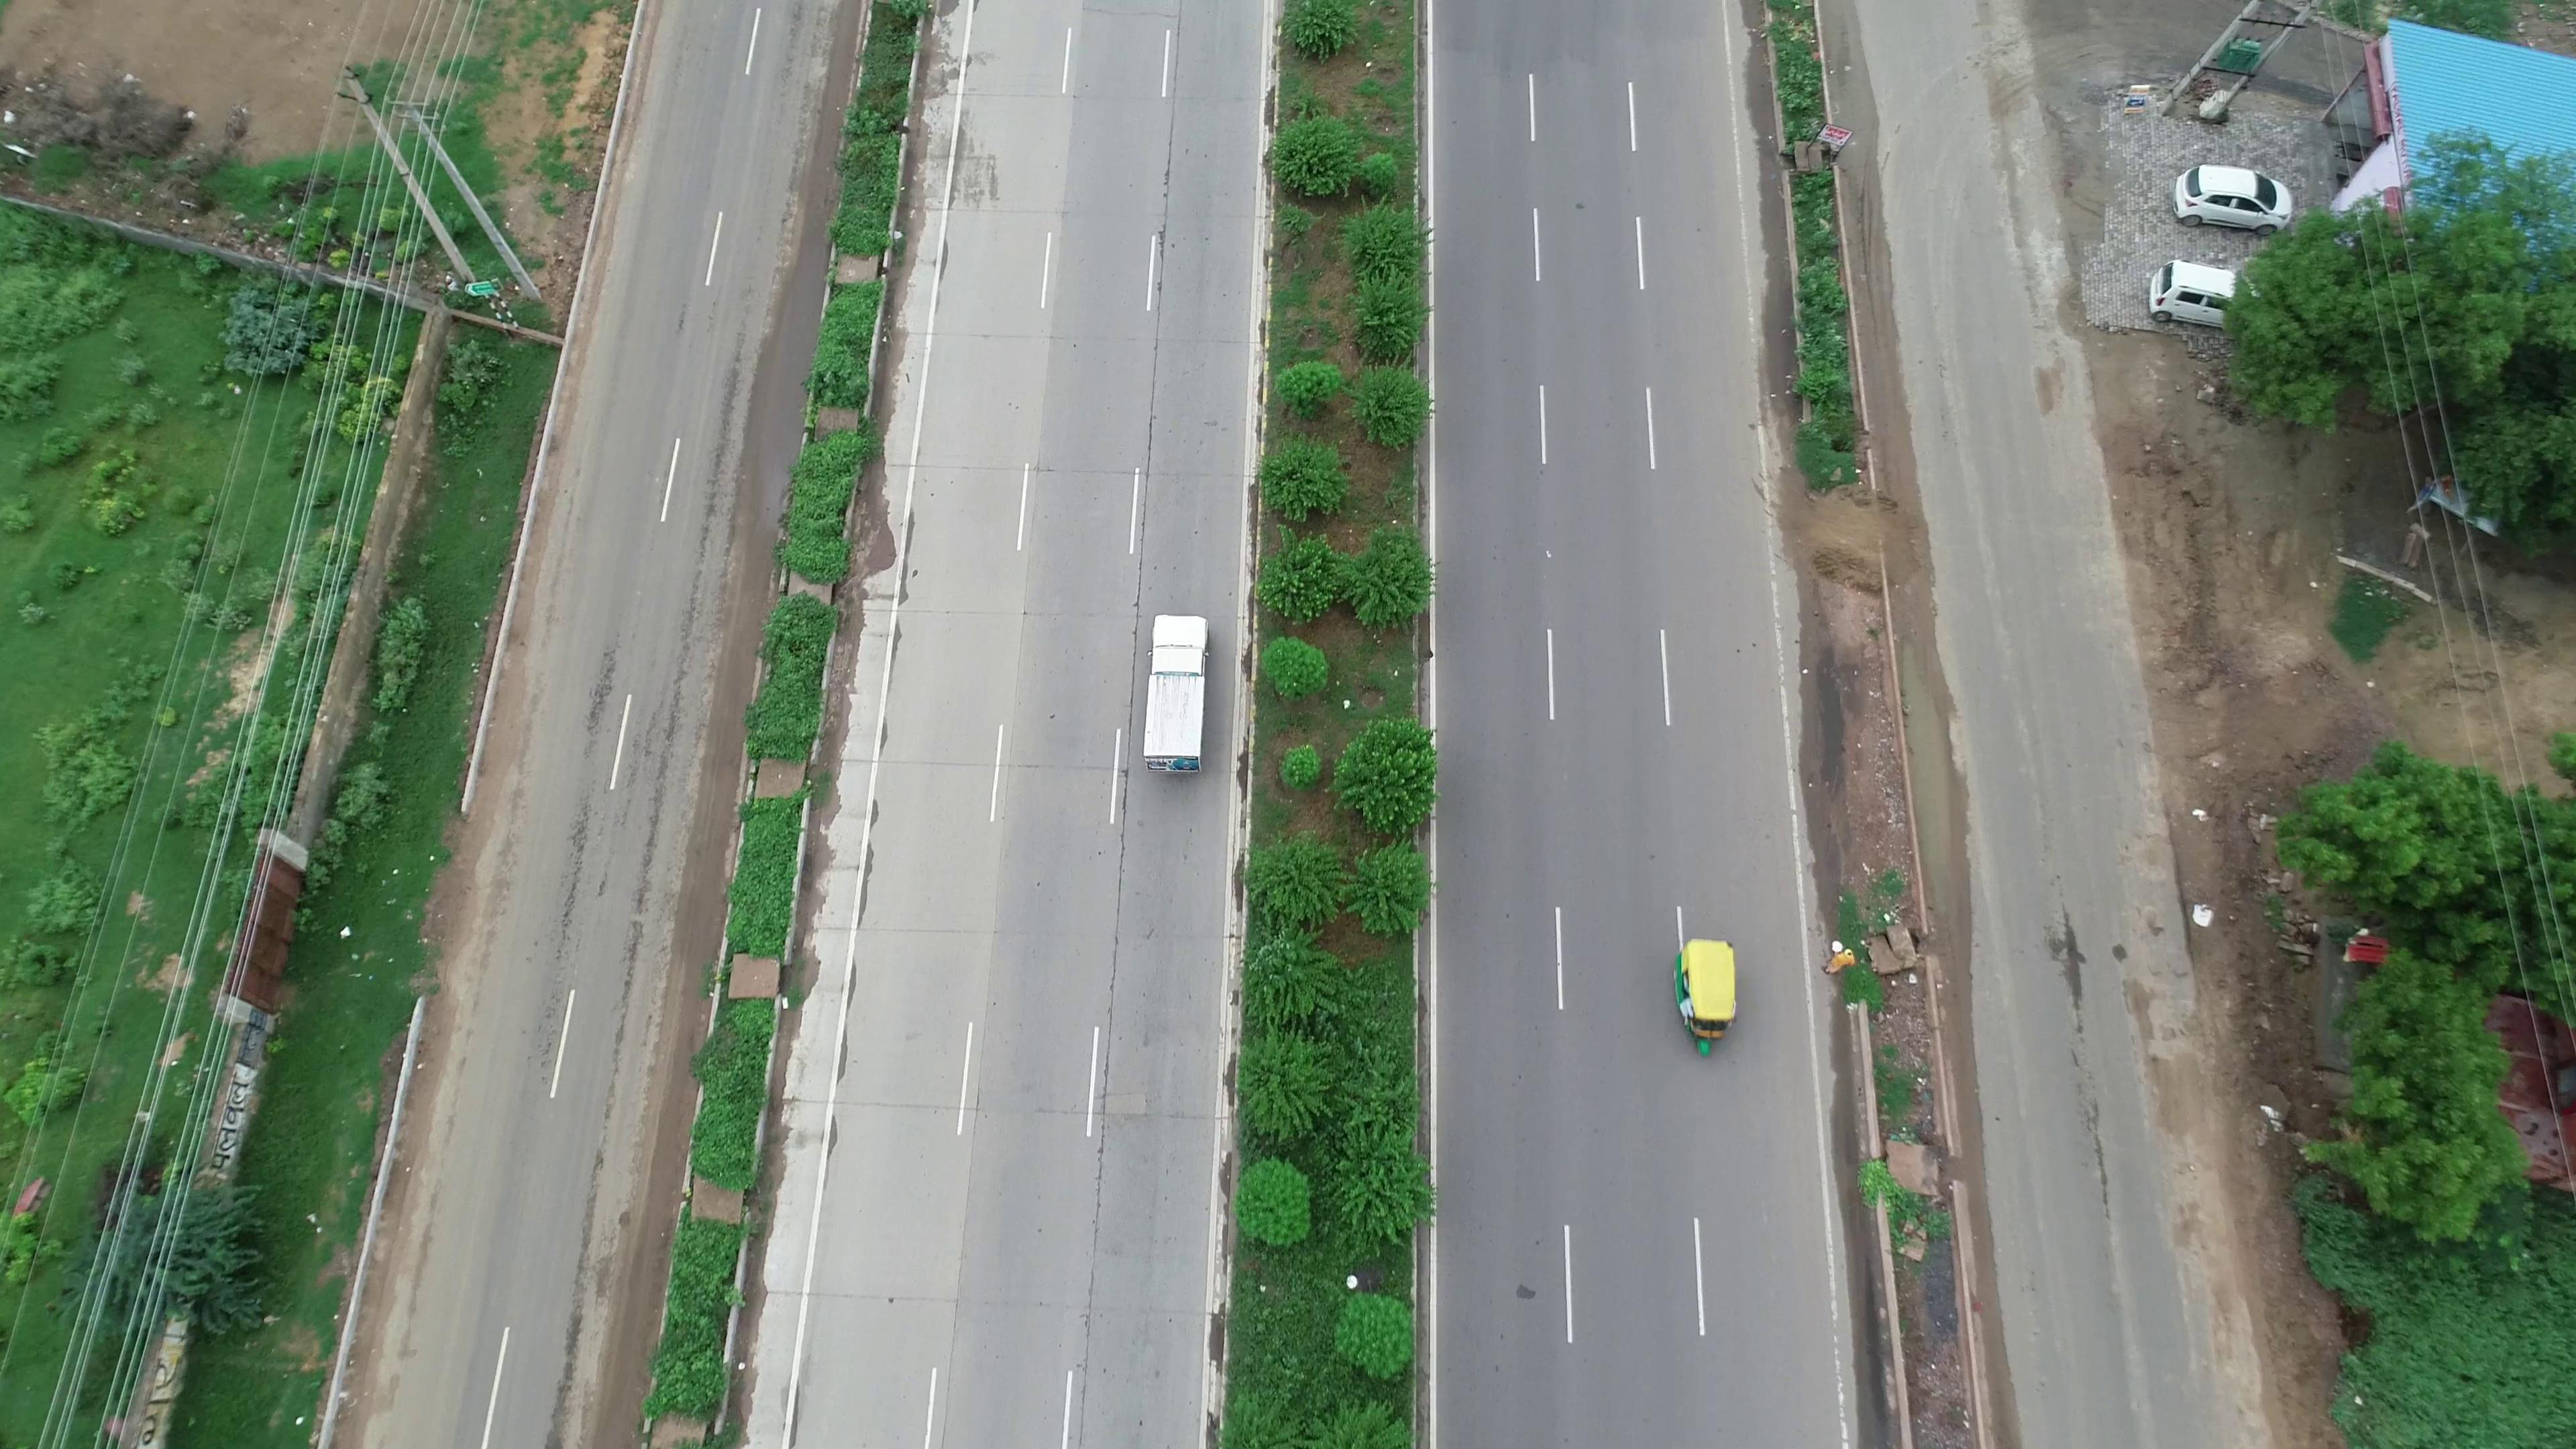Waterlogging: (1897, 642, 1959, 897)
